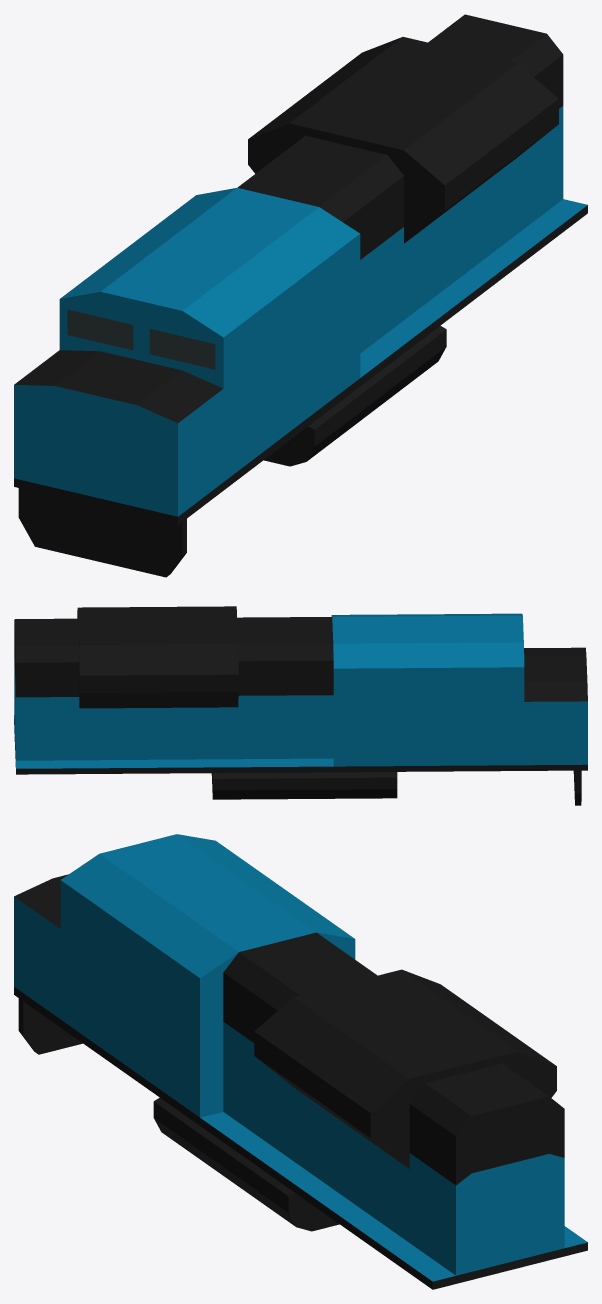
The model's file is Loco.fbx.
3 views of the same model, one above another, from view 1: azimuth 30°, elevation 25°; view 2: azimuth 150°, elevation 25°; view 3: azimuth 270°, elevation 25° (orthographic). The views are drawn at different scales.
Parts seen in each view (by area): view 1: Cube.004; view 2: Cube.004; view 3: Cube.004.
Boxes of the visible parts, x1=… form: Cube.004: x1=14, y1=14, x2=587, y2=577; Cube.004: x1=14, y1=606, x2=587, y2=805; Cube.004: x1=14, y1=834, x2=587, y2=1289.
Bounding box in the file's own units: 8.75 × 2.8 × 6.34.
